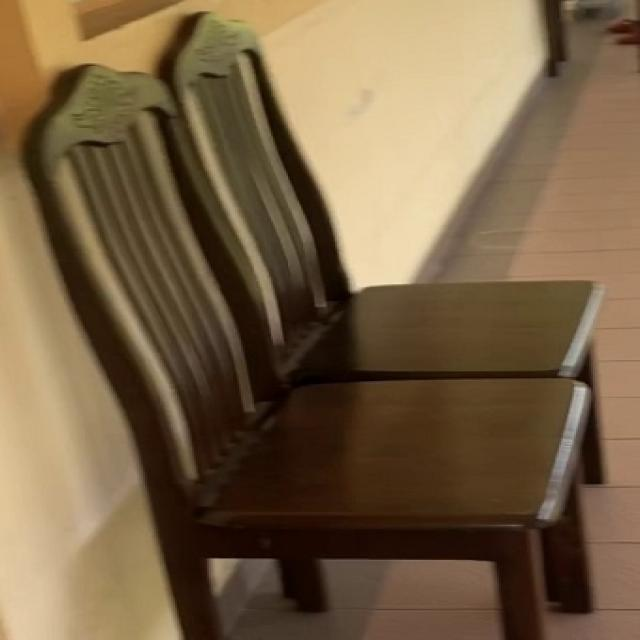chair: (22, 62, 616, 630), (156, 10, 640, 380)
